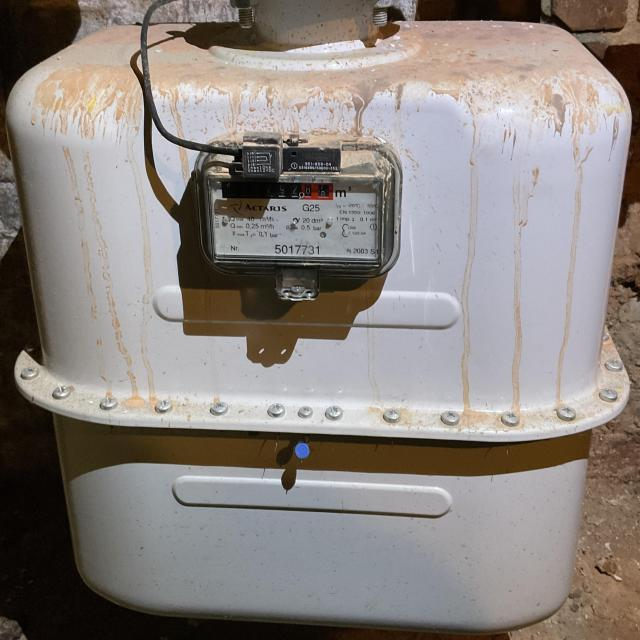gaz_meter: (210, 166, 386, 265)
indication: (221, 180, 334, 200)
